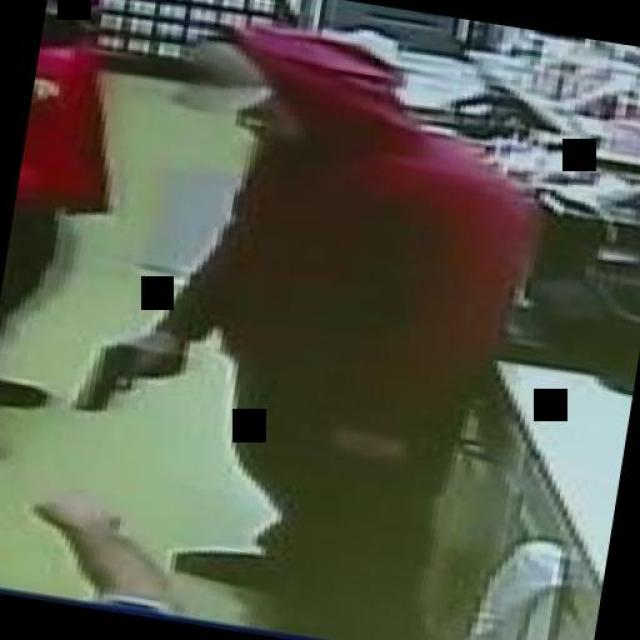gun: (65, 330, 189, 425)
